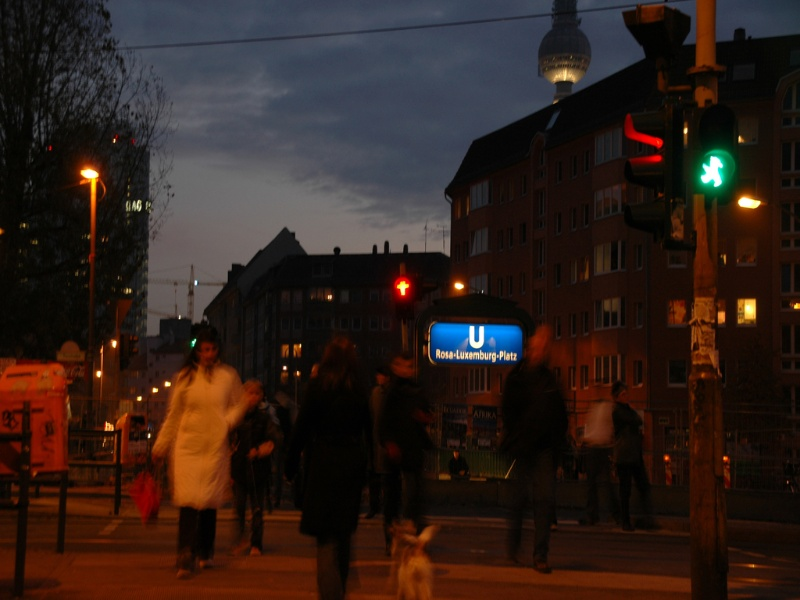green_light: (685, 141, 744, 199)
